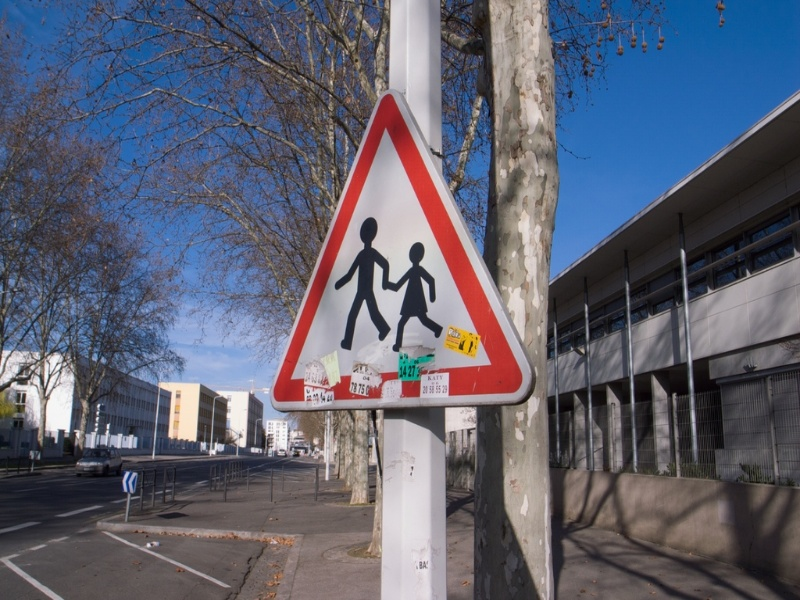pedestrian_crossing_ahead: (242, 88, 546, 405)
